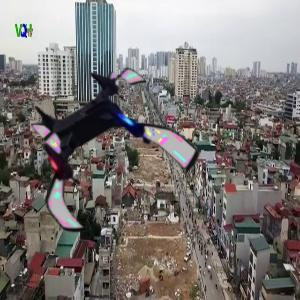drone: (14, 65, 189, 240)
